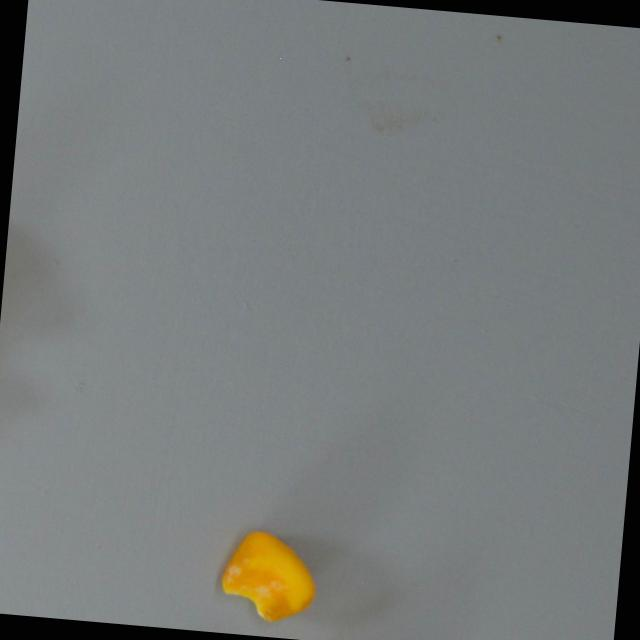pelicula: (217, 527, 319, 627)
